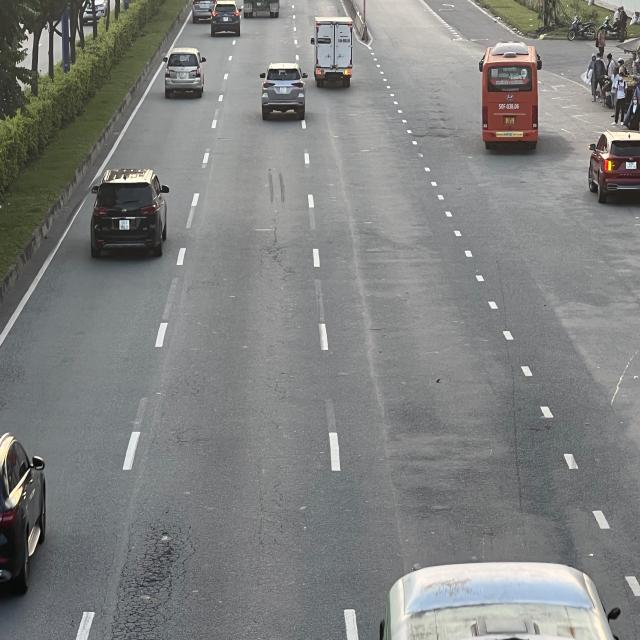car: (0, 431, 49, 593), (91, 171, 171, 262), (586, 129, 637, 202), (259, 62, 307, 120), (166, 47, 210, 99), (211, 0, 242, 35)
coach: (481, 44, 540, 150)
truck: (313, 15, 355, 84)
